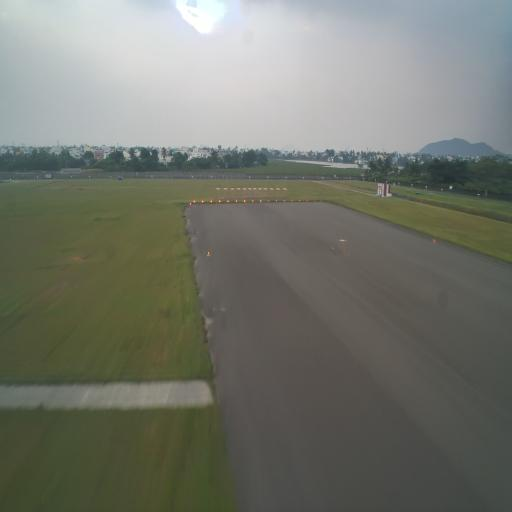off: (219, 305, 226, 315)
on: (432, 236, 436, 244), (207, 251, 210, 256), (210, 199, 213, 204), (243, 199, 246, 204), (189, 202, 192, 206), (218, 200, 221, 204), (268, 198, 270, 204), (298, 199, 301, 203), (202, 199, 204, 204), (193, 200, 195, 204), (227, 199, 229, 203), (236, 200, 238, 204), (252, 199, 254, 203), (276, 199, 278, 203), (290, 199, 292, 203), (306, 198, 308, 202), (260, 199, 262, 202), (283, 199, 285, 202)
